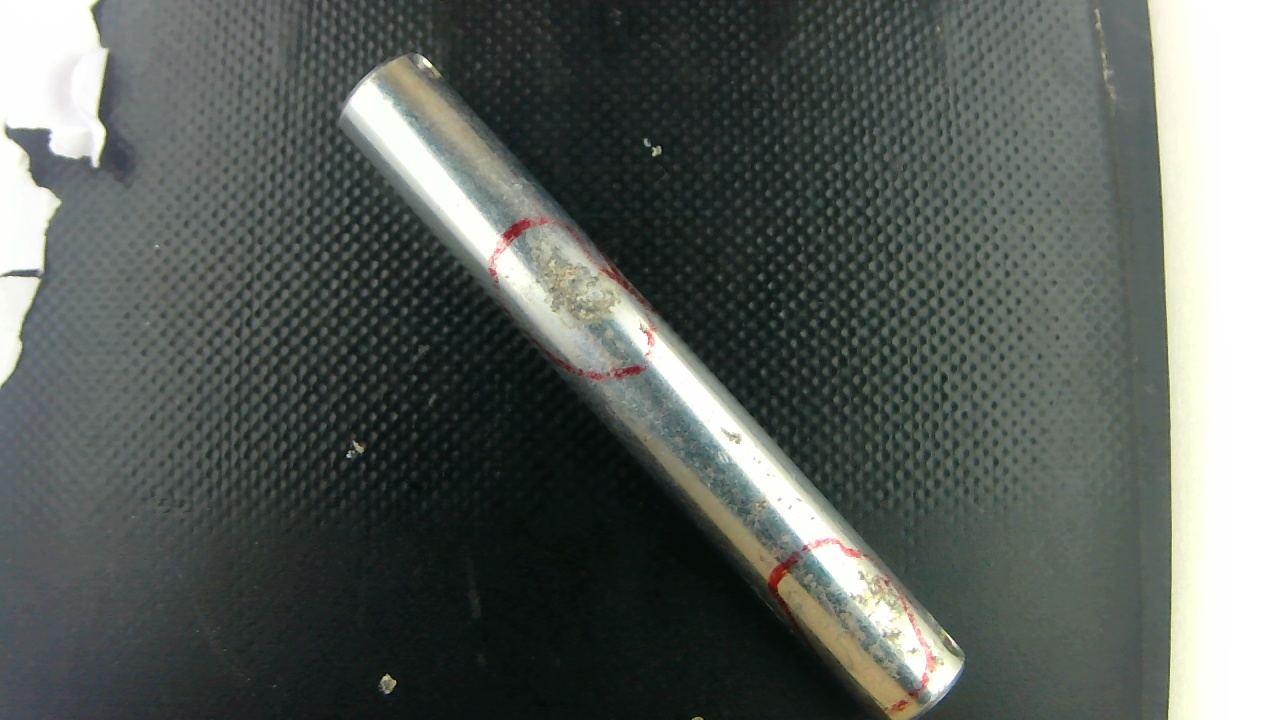whiterust_pin: (788, 565, 918, 687)
